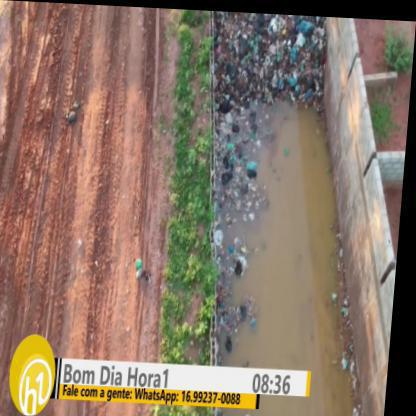agua: (258, 119, 328, 364)
lixo: (225, 12, 324, 94)
